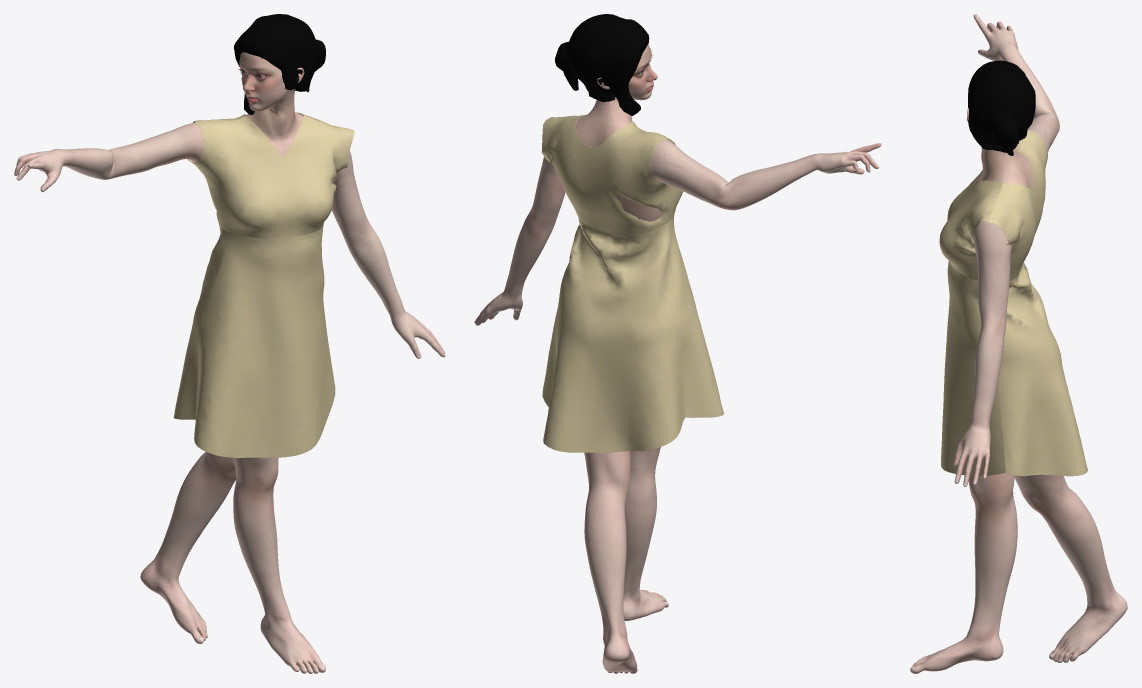
Rendered from Dynamic.obj.
3 renders of one model, left to right at view 1: azimuth 30°, elevation 25°; view 2: azimuth 150°, elevation 25°; view 3: azimuth 270°, elevation 25°, orthographic. The views are drawn at different scales.
Size of the model in its own units: 1226 by 1775 by 569.
